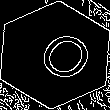O_SW: (19, 22, 91, 88)
